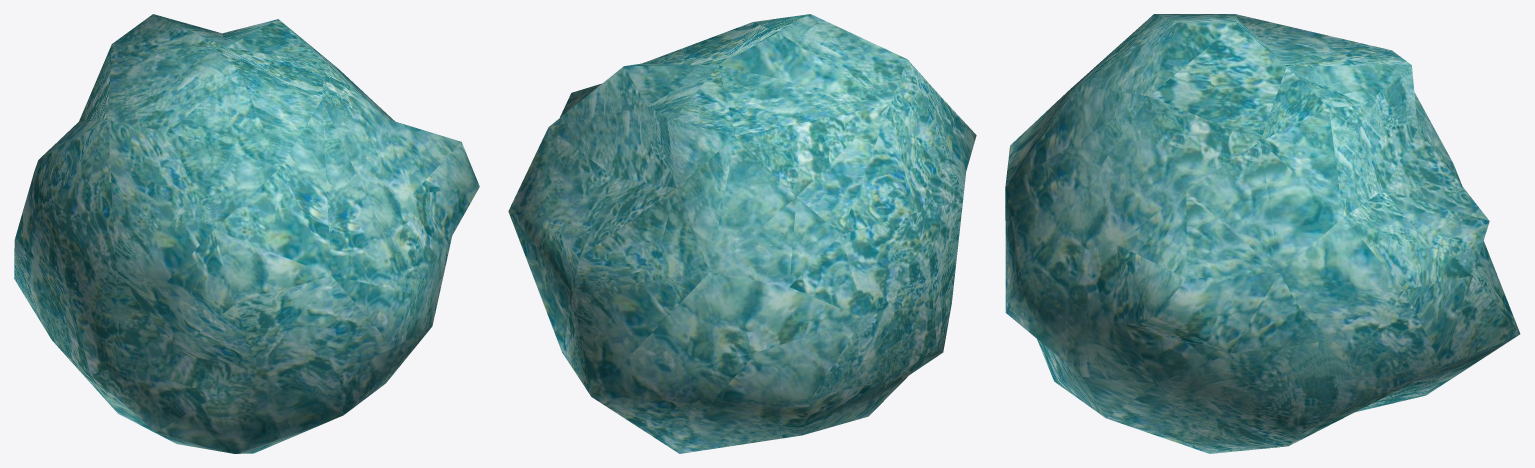
The model's file is small_asteroid.FBX.
3 views of the same model, side by side, from view 1: azimuth 30°, elevation 25°; view 2: azimuth 150°, elevation 25°; view 3: azimuth 270°, elevation 25° (orthographic). The views are drawn at different scales.
Visible parts, largest first — view 1: small_asteroid; view 2: small_asteroid; view 3: small_asteroid.
Boxes of the visible parts, left/top/right/bottom form: small_asteroid: left=14, top=14, right=479, bottom=453; small_asteroid: left=508, top=14, right=976, bottom=453; small_asteroid: left=1005, top=14, right=1520, bottom=453.
Size of the model in its own units: 59 by 55.25 by 65.7.
